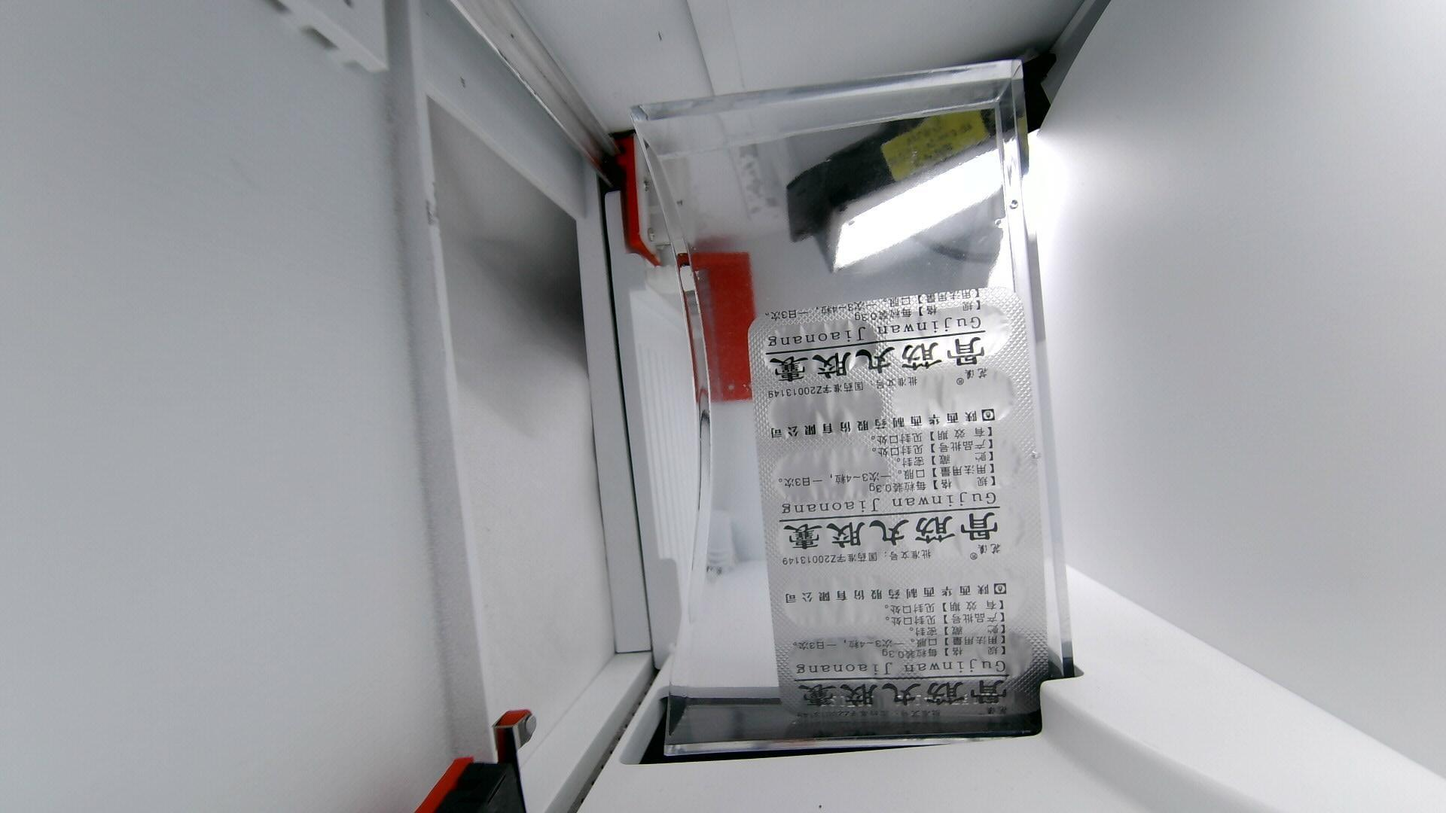Pill Back: (908, 434, 1016, 492), (785, 575, 901, 629), (917, 629, 1035, 682), (913, 568, 1026, 621), (898, 369, 1014, 419), (892, 308, 1010, 357), (774, 516, 894, 562), (776, 451, 887, 498), (790, 642, 901, 689), (911, 509, 1026, 553), (771, 388, 884, 430), (763, 327, 875, 366)
